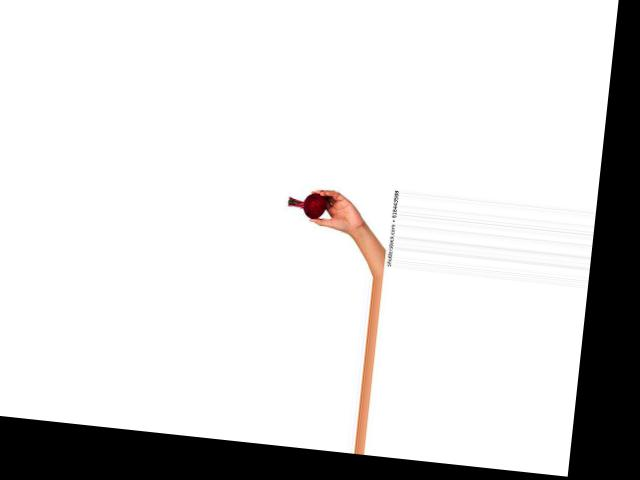beet: (286, 189, 326, 219)
